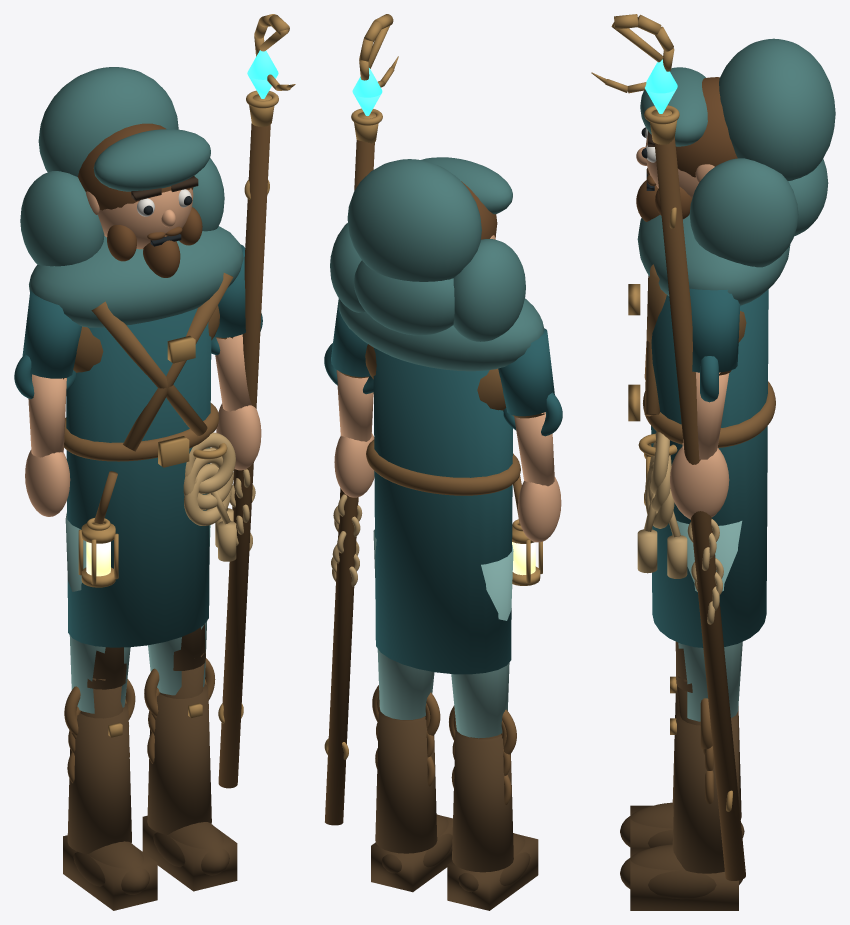
File: 3D模型 char_fisher.glb
3 renders of one model, left to right at view 1: azimuth 30°, elevation 25°; view 2: azimuth 150°, elevation 25°; view 3: azimuth 270°, elevation 25°, orthographic. The views are drawn at different scales.
Parts seen in each view (by area): view 1: char_fisher_tunic, char_fisher_mantle, char_fisher_staffpole, char_fisher_hoodtop, char_fisher_boot_L, char_fisher_boot_R, char_fisher_hoodbun_L, char_fisher_hoodbrow, char_fisher_sleeve_L, char_fisher_pant_L, char_fisher_arml_L, char_fisher_foot_R (+33 smaller); view 2: char_fisher_tunic, char_fisher_hoodtop, char_fisher_boot_R, char_fisher_boot_L, char_fisher_staffpole, char_fisher_mantle, char_fisher_hoodbun_L, char_fisher_hoodneck, char_fisher_pant_L, char_fisher_sleeve_L, char_fisher_belt, char_fisher_pant_R (+18 smaller); view 3: char_fisher_tunic, char_fisher_staffpole, char_fisher_hoodtop, char_fisher_hoodbun_R, char_fisher_boot_R, char_fisher_mantle, char_fisher_pant_R, char_fisher_sleeve_R, char_fisher_hand_R, char_fisher_foot_R, char_fisher_bootfoot_R, char_fisher_hair (+19 smaller).
Part boxes in pixels (left/top/right/bottom): char_fisher_tunic: left=66, top=308, right=211, bottom=647; char_fisher_mantle: left=29, top=226, right=243, bottom=327; char_fisher_staffpole: left=218, top=123, right=270, bottom=788; char_fisher_hoodtop: left=38, top=67, right=178, bottom=176; char_fisher_boot_L: left=67, top=703, right=131, bottom=854; char_fisher_boot_R: left=147, top=684, right=211, bottom=834; char_fisher_hoodbun_L: left=20, top=171, right=104, bottom=266; char_fisher_hoodbrow: left=93, top=129, right=210, bottom=191; char_fisher_sleeve_L: left=22, top=290, right=81, bottom=378; char_fisher_pant_L: left=65, top=513, right=130, bottom=713; char_fisher_arml_L: left=28, top=374, right=66, bottom=457; char_fisher_foot_R: left=142, top=815, right=237, bottom=891; char_fisher_tunic: left=373, top=348, right=512, bottom=674; char_fisher_hoodtop: left=347, top=159, right=481, bottom=281; char_fisher_boot_R: left=375, top=709, right=437, bottom=853; char_fisher_boot_L: left=452, top=728, right=513, bottom=872; char_fisher_staffpole: left=325, top=140, right=374, bottom=825; char_fisher_mantle: left=338, top=298, right=544, bottom=371; char_fisher_hoodbun_L: left=453, top=239, right=525, bottom=341; char_fisher_hoodneck: left=354, top=260, right=454, bottom=335; char_fisher_pant_L: left=451, top=545, right=513, bottom=738; char_fisher_sleeve_L: left=498, top=328, right=554, bottom=416; char_fisher_belt: left=366, top=439, right=520, bottom=495; char_fisher_pant_R: left=373, top=529, right=434, bottom=719; char_fisher_tunic: left=651, top=289, right=768, bottom=647; char_fisher_staffpole: left=654, top=137, right=745, bottom=880; char_fisher_hoodtop: left=719, top=38, right=835, bottom=180; char_fisher_hoodbun_R: left=689, top=158, right=798, bottom=267; char_fisher_boot_R: left=672, top=710, right=740, bottom=873; char_fisher_mantle: left=637, top=214, right=790, bottom=305; char_fisher_pant_R: left=676, top=521, right=742, bottom=721; char_fisher_sleeve_R: left=689, top=288, right=740, bottom=372; char_fisher_hand_R: left=670, top=446, right=729, bottom=519; char_fisher_foot_R: left=630, top=847, right=738, bottom=910; char_fisher_bootfoot_R: left=620, top=844, right=742, bottom=899; char_fisher_hair: left=675, top=77, right=737, bottom=177.
Size of the model in its own units: 0.617 by 2.04 by 0.4937.
